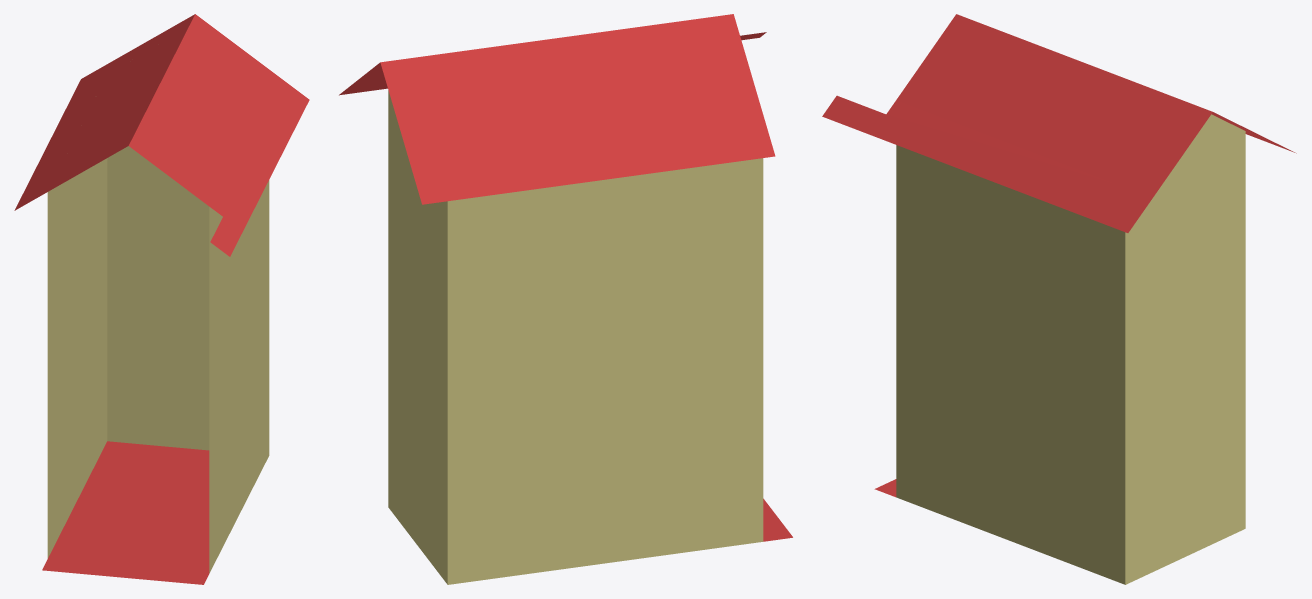
3 renders of one model, left to right at view 1: azimuth 30°, elevation 25°; view 2: azimuth 150°, elevation 25°; view 3: azimuth 270°, elevation 25°, orthographic. The views are drawn at different scales.
Bounding box in the file's own units: 5.67 × 6.43 × 6.79.
